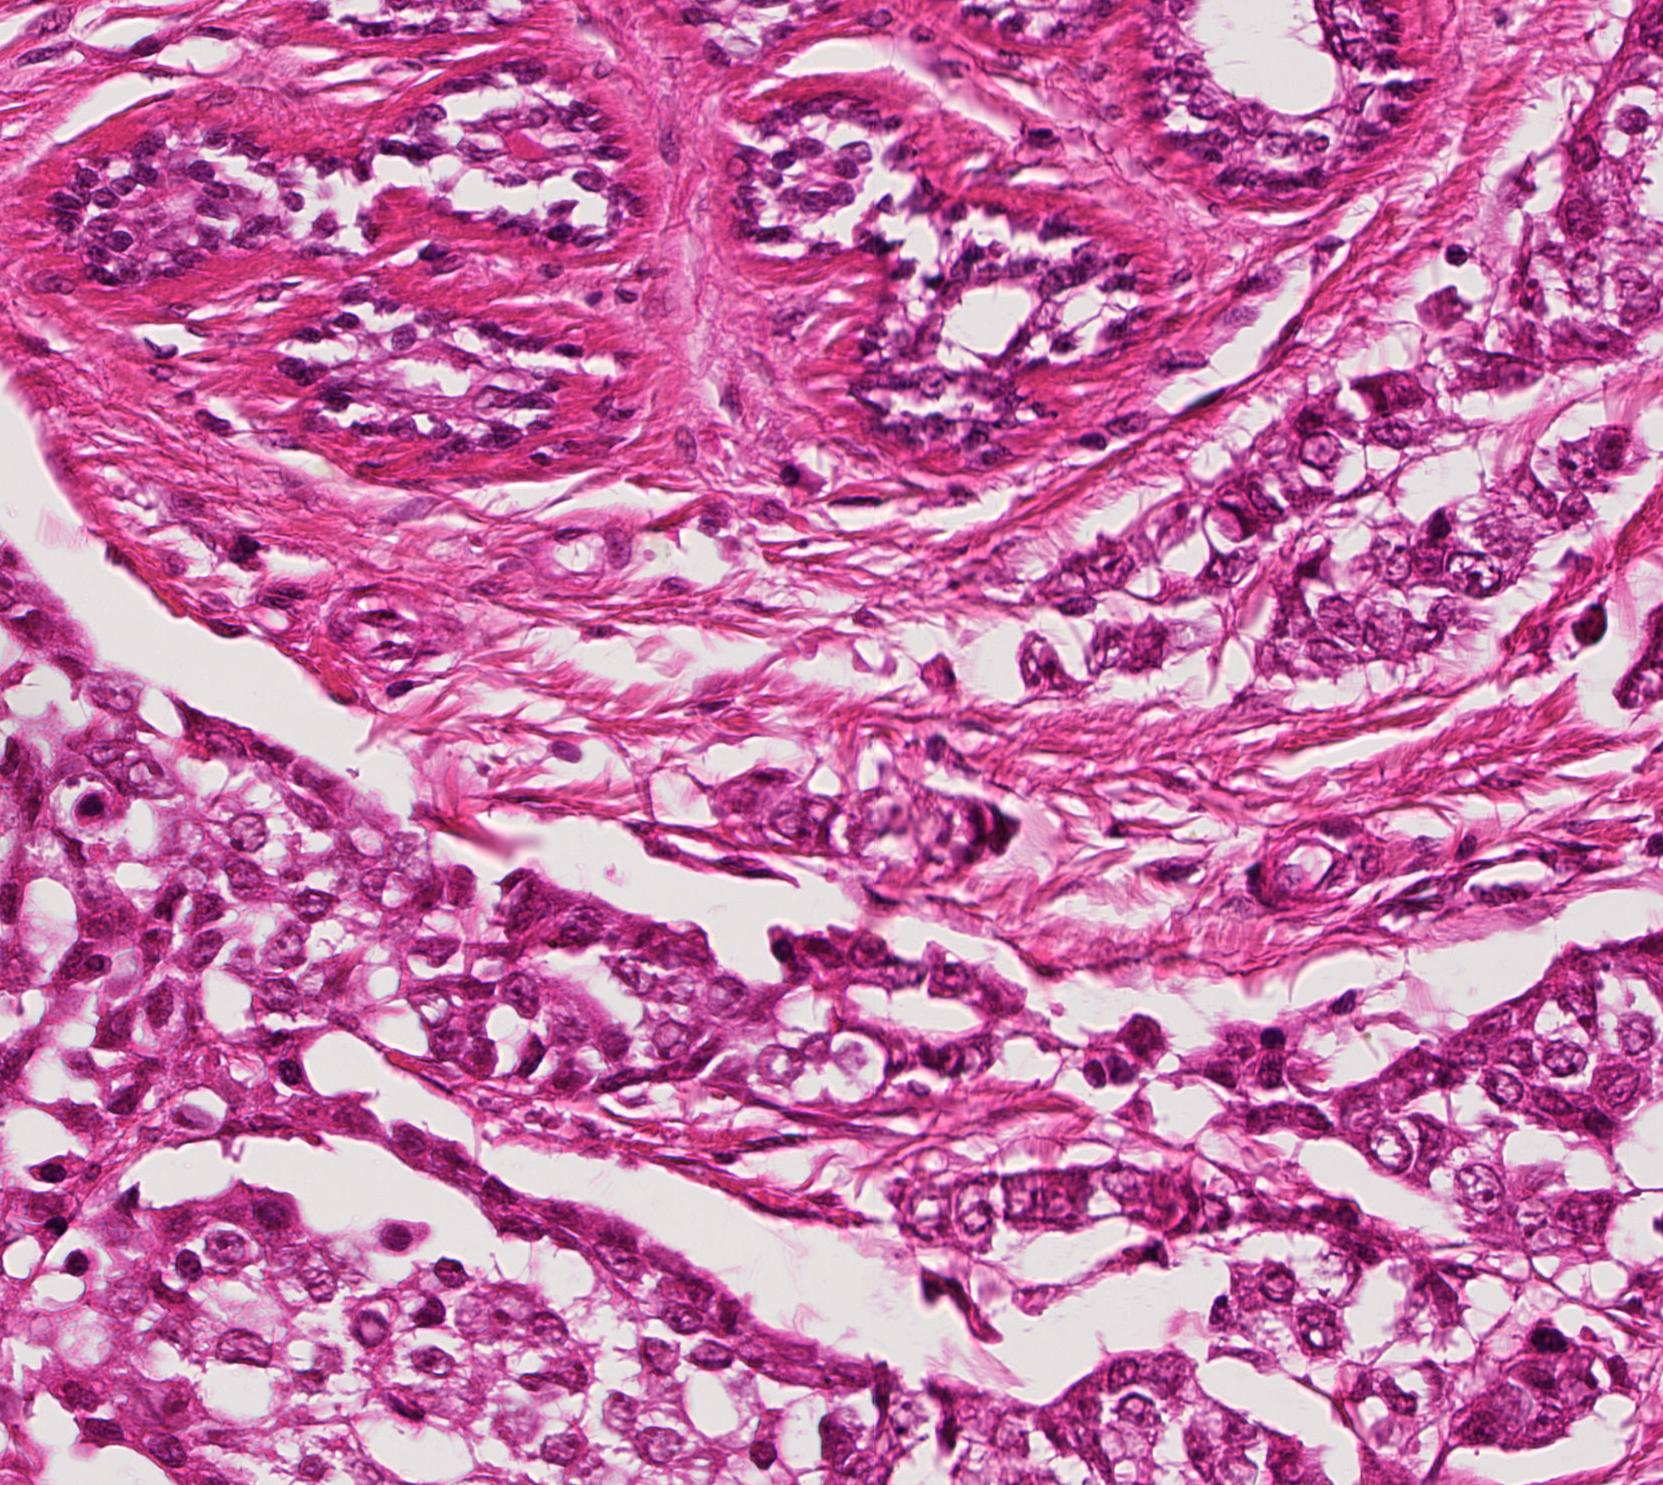mitosis: (1518, 1306, 1578, 1366)
